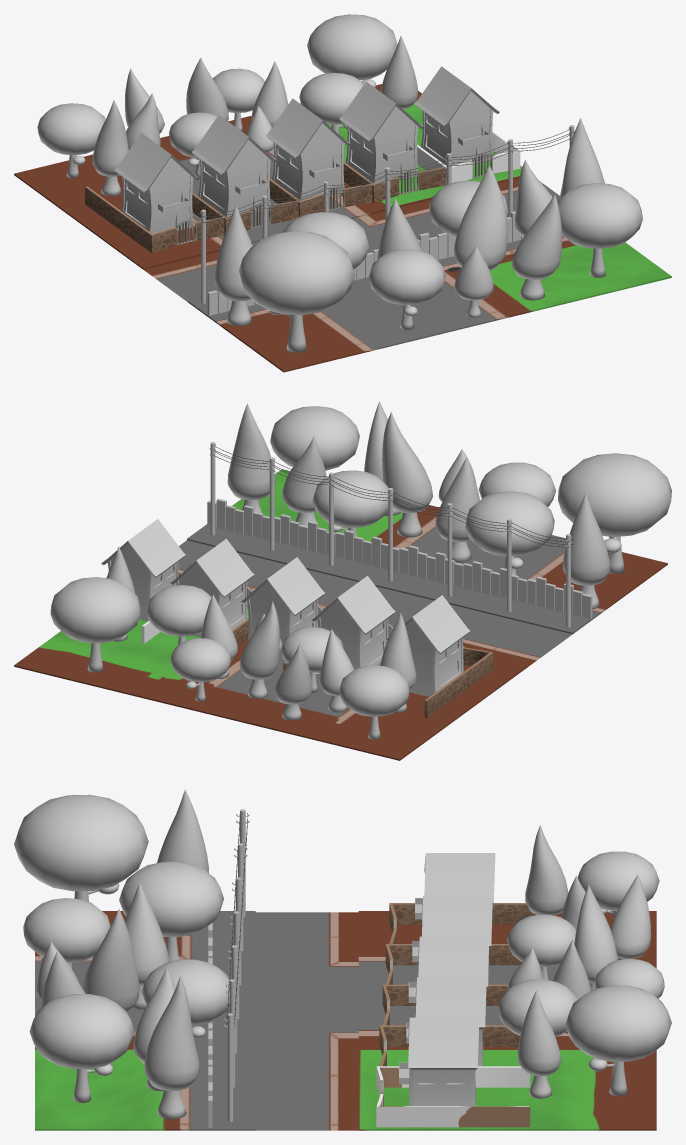
The model's file is Alrededor_plaza_ok.fbx.
3 views of the same model, one above another, from view 1: azimuth 30°, elevation 25°; view 2: azimuth 150°, elevation 25°; view 3: azimuth 270°, elevation 25° (orthographic). The views are drawn at different scales.
Visible parts, largest first — view 1: Suelo.002, Arboles.002, Pinos.002, Arboles.003, Pinos.003, Casa_danny.005, Casa_danny.006, Casa_danny.007, Casa_04.001, Casa_danny.001, Muro_casa_04.001, Vayas.001 (+7 smaller); view 2: Suelo.002, Arboles.002, Pinos.002, Arboles.003, Vayas.001, Pinos.003, Casa_04.001, Casa_danny.007, Casa_danny.006, Poste_electrico.001, Casa_danny.001, Casa_danny.005 (+3 smaller); view 3: Suelo.002, Arboles.002, Arboles.003, Pinos.002, Pinos.003, Casa_danny.001, Muro_casa_dany.001, Casa_danny.005, Casa_04.001, Casa_danny.006, Poste_electrico.001, Casa_danny.007 (+5 smaller).
Part boxes in pixels (left/top/right/bottom): Suelo.002: left=14, top=84, right=671, bottom=372; Arboles.002: left=238, top=180, right=642, bottom=352; Pinos.002: left=214, top=118, right=604, bottom=325; Arboles.003: left=37, top=14, right=397, bottom=178; Pinos.003: left=92, top=36, right=417, bottom=195; Casa_danny.005: left=339, top=81, right=424, bottom=183; Casa_danny.006: left=266, top=98, right=350, bottom=200; Casa_danny.007: left=192, top=115, right=277, bottom=217; Casa_04.001: left=114, top=133, right=199, bottom=233; Casa_danny.001: left=414, top=66, right=499, bottom=165; Muro_casa_04.001: left=85, top=186, right=224, bottom=252; Vayas.001: left=207, top=211, right=523, bottom=315; Suelo.002: left=14, top=469, right=667, bottom=760; Arboles.002: left=270, top=406, right=671, bottom=575; Pinos.002: left=227, top=401, right=610, bottom=609; Arboles.003: left=50, top=577, right=409, bottom=739; Vayas.001: left=207, top=498, right=592, bottom=618; Pinos.003: left=106, top=546, right=416, bottom=720; Casa_04.001: left=385, top=595, right=470, bottom=696; Casa_danny.007: left=311, top=575, right=395, bottom=669; Casa_danny.006: left=240, top=557, right=324, bottom=658; Poste_electrico.001: left=209, top=442, right=571, bottom=627; Casa_danny.001: left=101, top=519, right=185, bottom=621; Casa_danny.005: left=169, top=538, right=254, bottom=637; Suelo.002: left=35, top=911, right=656, bottom=1130; Arboles.002: left=14, top=794, right=229, bottom=1102; Arboles.003: left=497, top=851, right=671, bottom=1096; Pinos.002: left=36, top=789, right=208, bottom=1119; Pinos.003: left=508, top=825, right=651, bottom=1098; Casa_danny.001: left=399, top=1017, right=479, bottom=1106; Muro_casa_dany.001: left=376, top=1066, right=530, bottom=1127; Casa_danny.005: left=406, top=977, right=486, bottom=1066; Casa_04.001: left=415, top=853, right=495, bottom=943; Casa_danny.006: left=408, top=936, right=489, bottom=1024; Poste_electrico.001: left=223, top=809, right=249, bottom=1121; Casa_danny.007: left=412, top=896, right=492, bottom=984.
Bounding box in the file's own units: 1420 × 407 × 1734.
